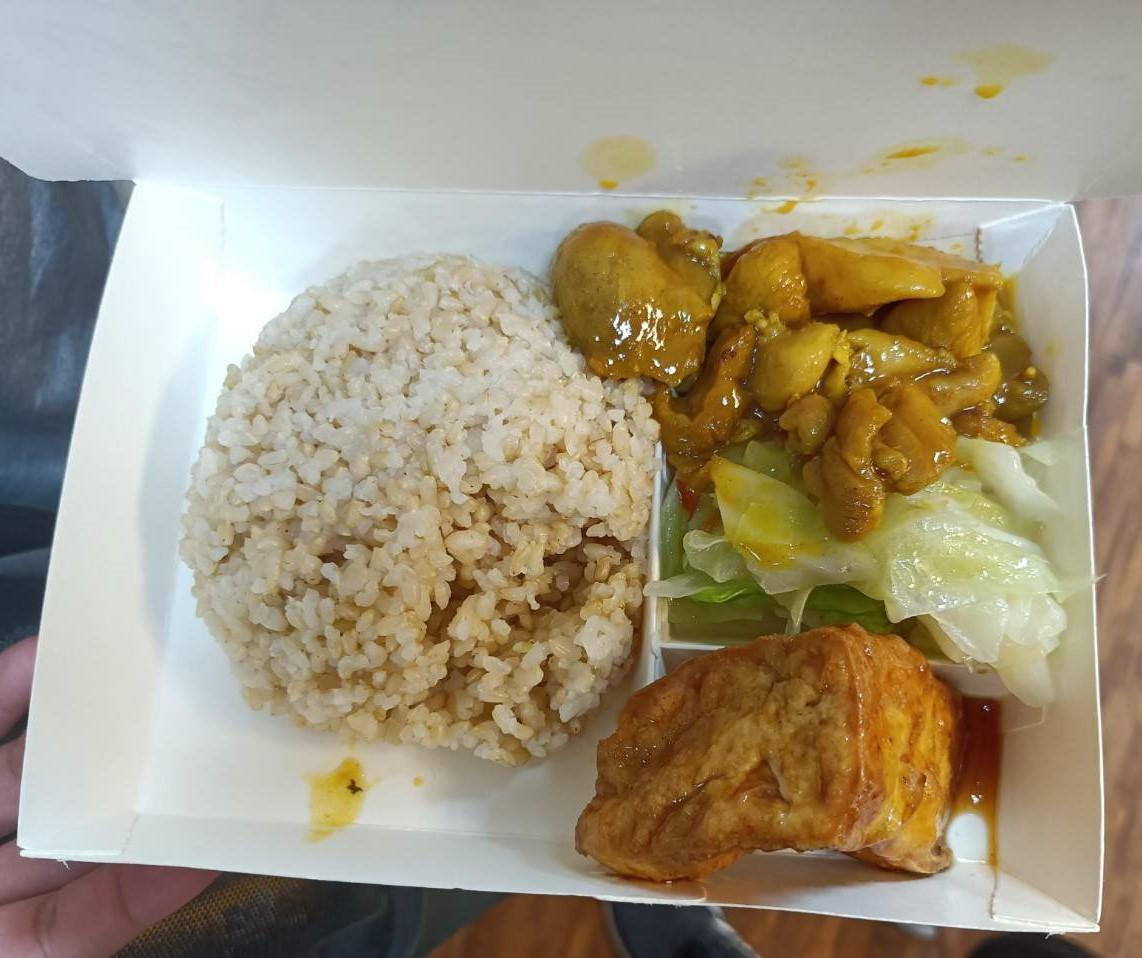big grilled chicken leg: (10, 134, 1128, 949)
box: (162, 212, 663, 771)
braised fish fillet: (554, 199, 1071, 500), (559, 610, 996, 904), (643, 405, 1066, 680)
